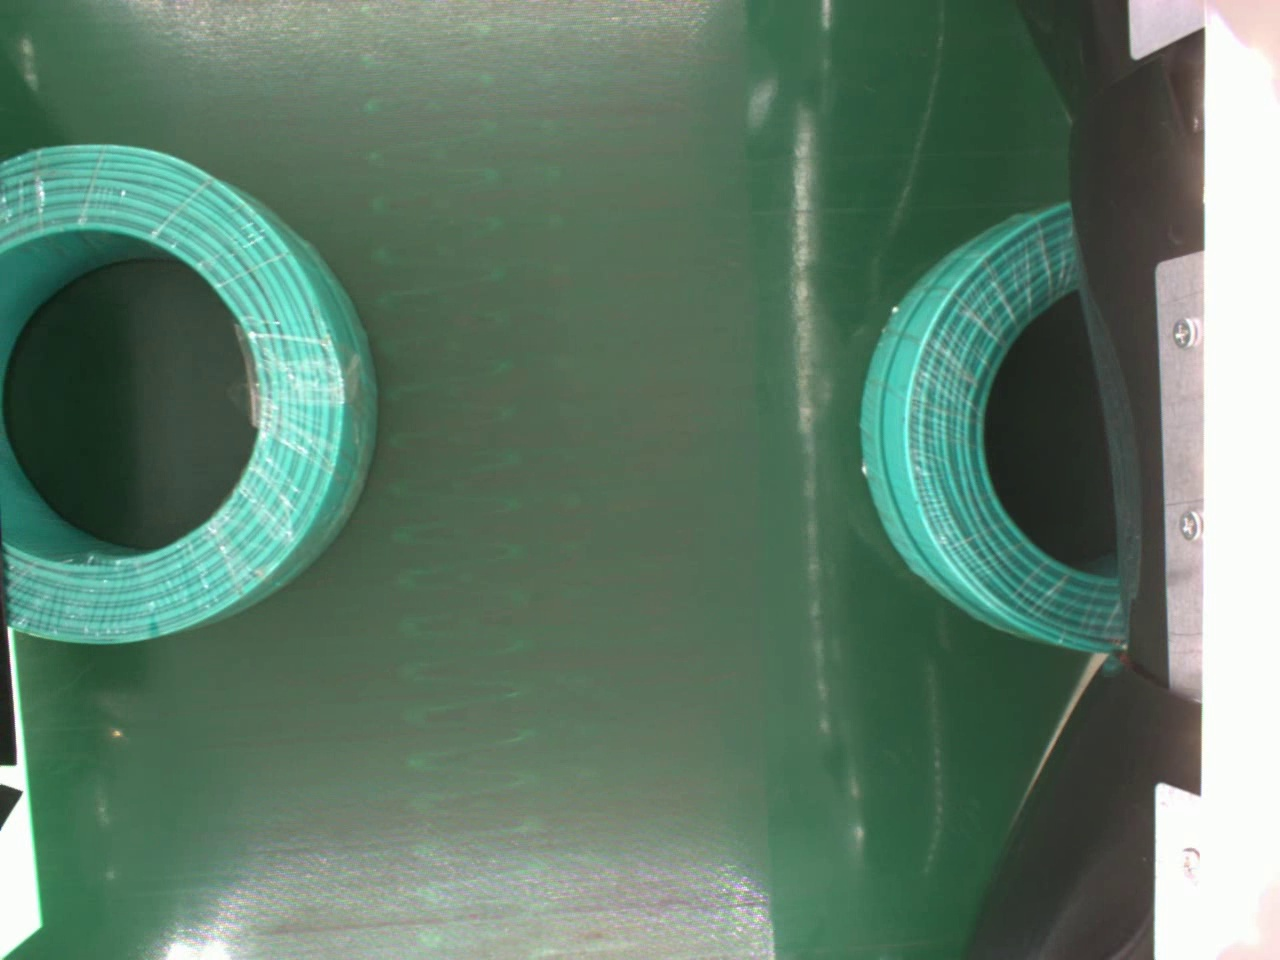green: (3, 137, 378, 640), (860, 198, 1126, 658)
